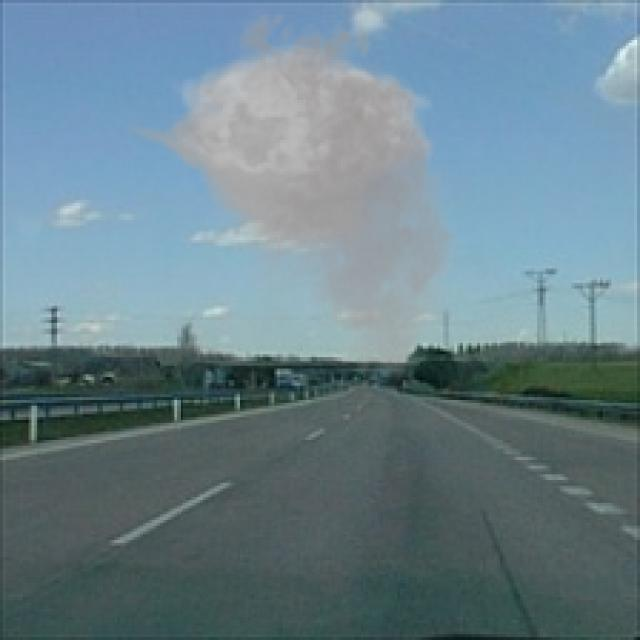Smoke: (120, 0, 472, 383)
